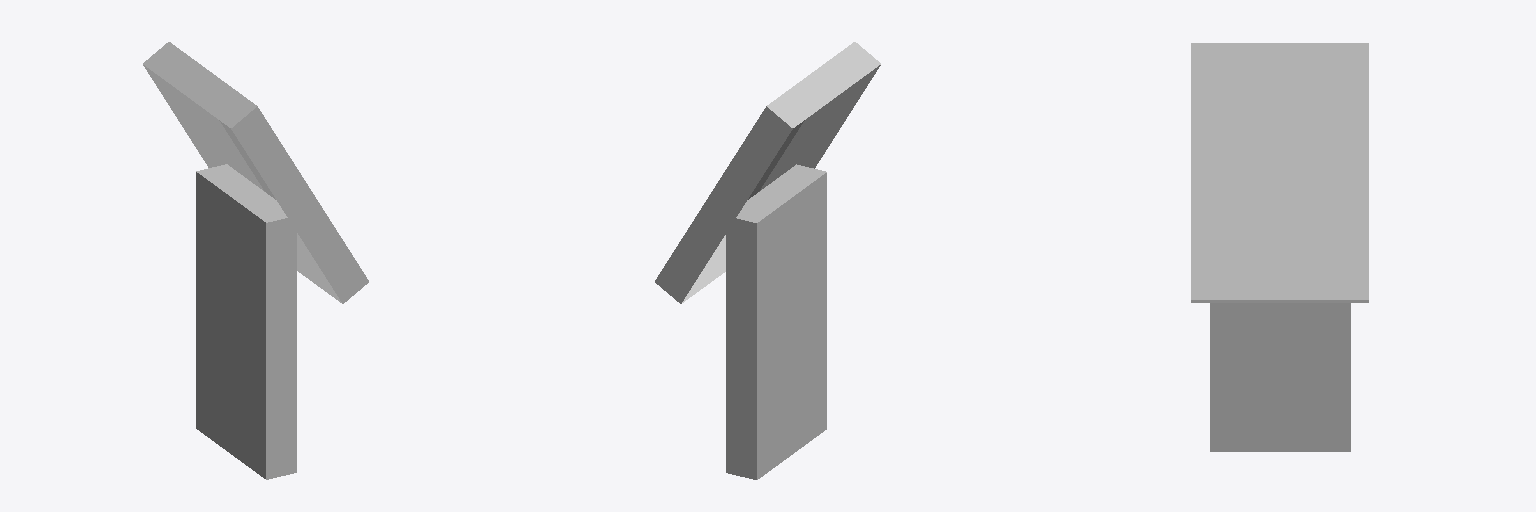
File: console-01-body.obj
3 views of the same model, side by side, from view 1: azimuth 30°, elevation 25°; view 2: azimuth 150°, elevation 25°; view 3: azimuth 270°, elevation 25° (orthographic).
Visible parts, largest first — view 1: Plane.002_Plane.004, Plane.003_Plane.001; view 2: Plane.002_Plane.004, Plane.003_Plane.001; view 3: Plane.003_Plane.001, Plane.002_Plane.004.
Boxes of the visible parts, box(x1,y1,x2,y2) form: Plane.002_Plane.004: box(196, 164, 296, 479); Plane.003_Plane.001: box(143, 42, 368, 303); Plane.002_Plane.004: box(726, 164, 826, 479); Plane.003_Plane.001: box(655, 42, 880, 303); Plane.003_Plane.001: box(1191, 43, 1368, 302); Plane.002_Plane.004: box(1210, 303, 1350, 451).
Bounding box in the file's own units: 0.9024 × 2.4 × 1.